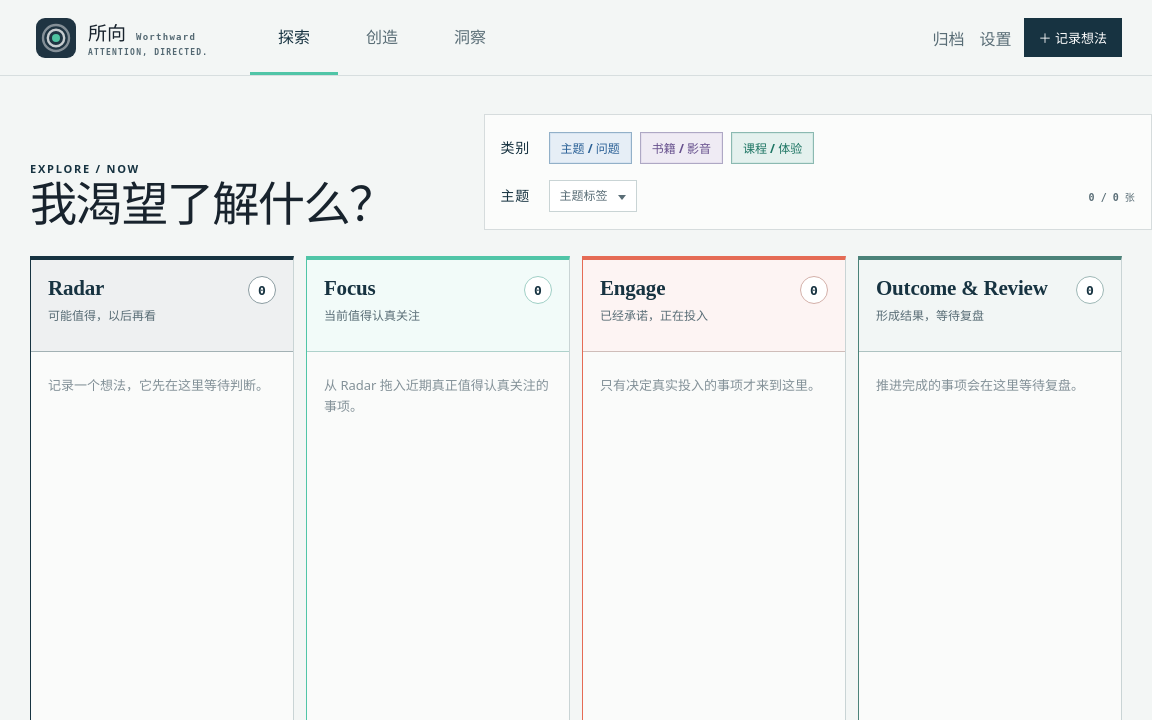
attention workflow › offers the next stage beside free movement
The width and height of the screenshot is (1152, 720).
Click the button "＋ 记录想法" at (1073, 38), box [1024, 18, 1122, 57]
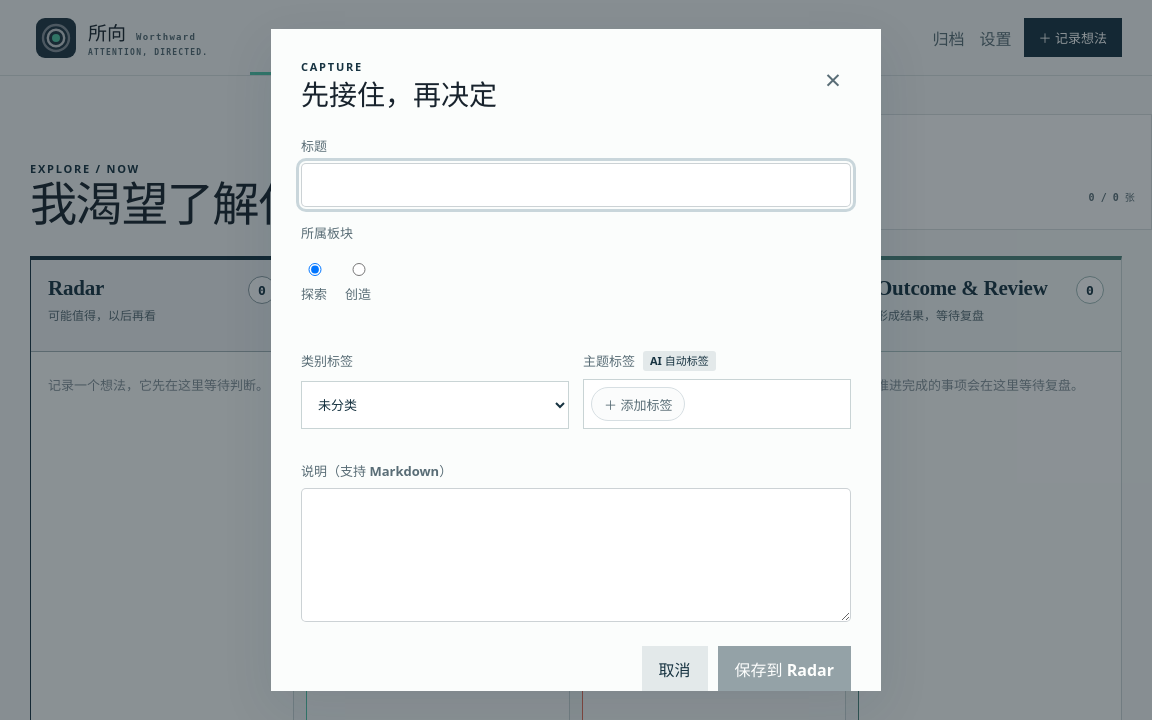
Type "研究知识追踪" into the field labelled "标题" at (576, 185), box [301, 163, 851, 207]
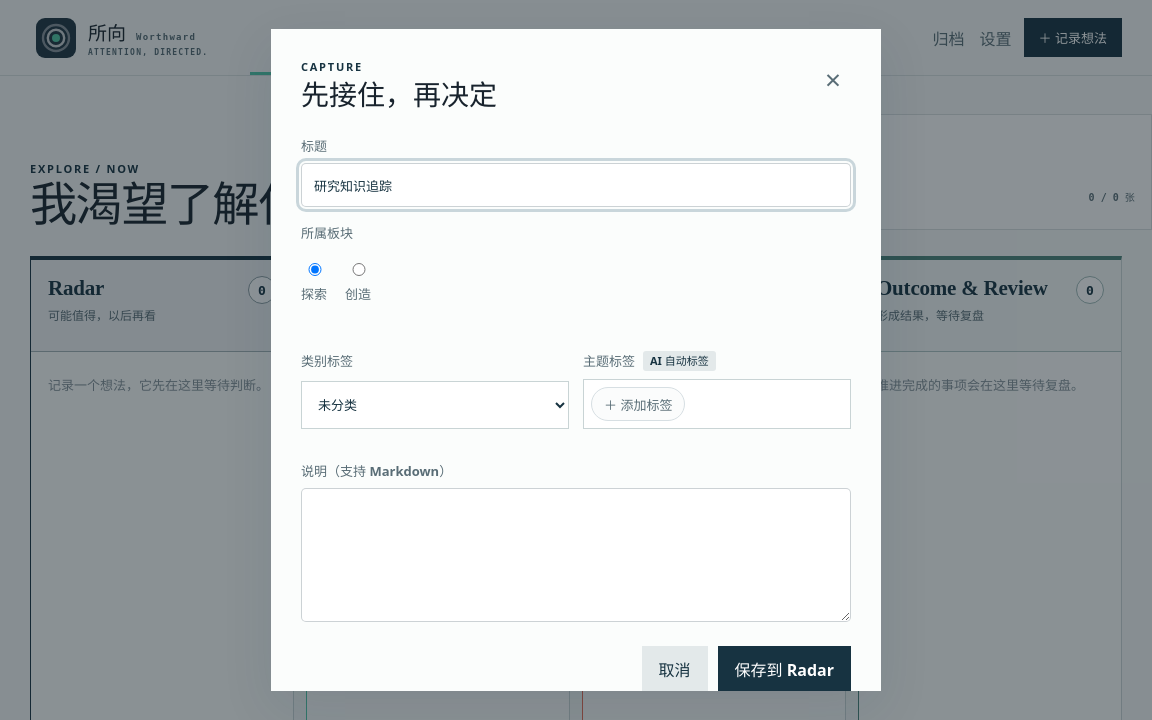
Click the button "保存到 Radar" at (784, 669), box [718, 646, 851, 692]
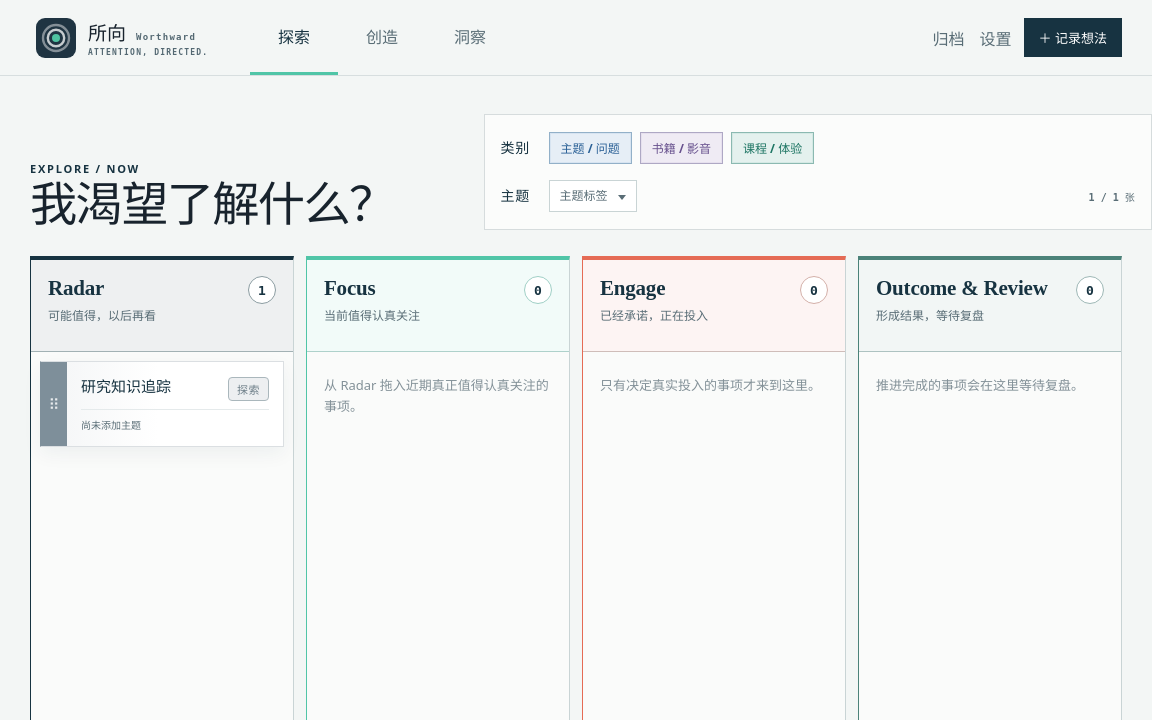
Click the button with aria-label "打开卡片：研究知识追踪" at (175, 404), box [67, 362, 283, 446]
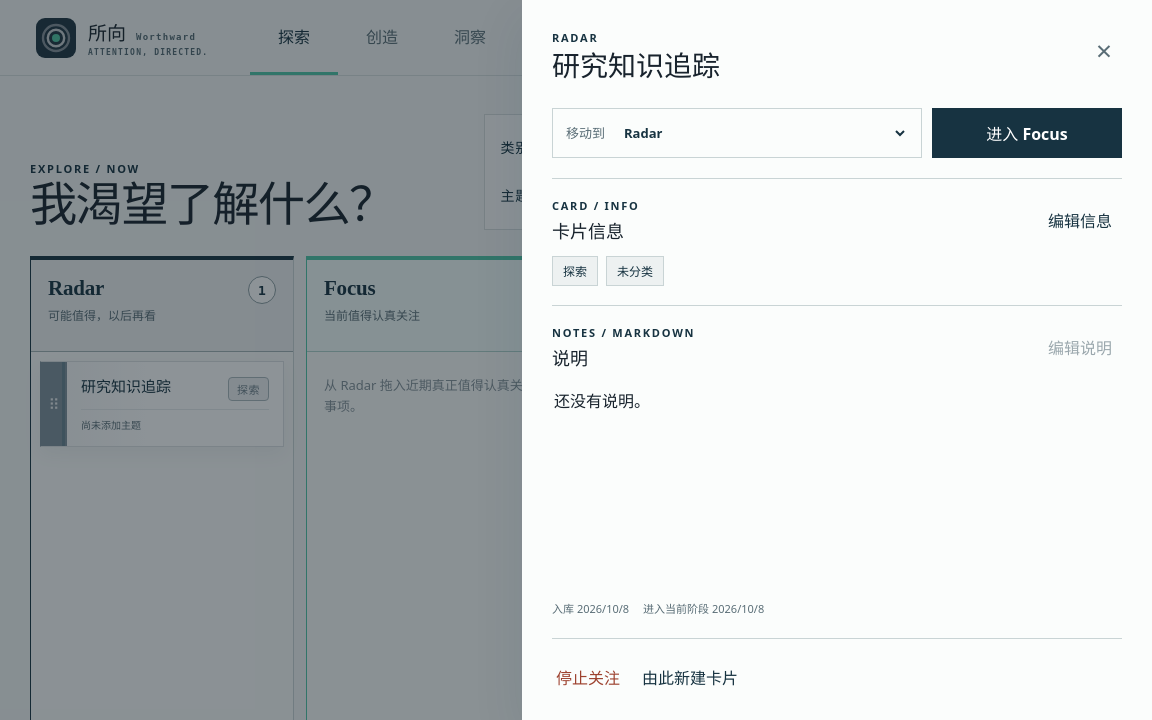
Click the button "进入 Focus" at (1027, 133), box [932, 108, 1122, 158]
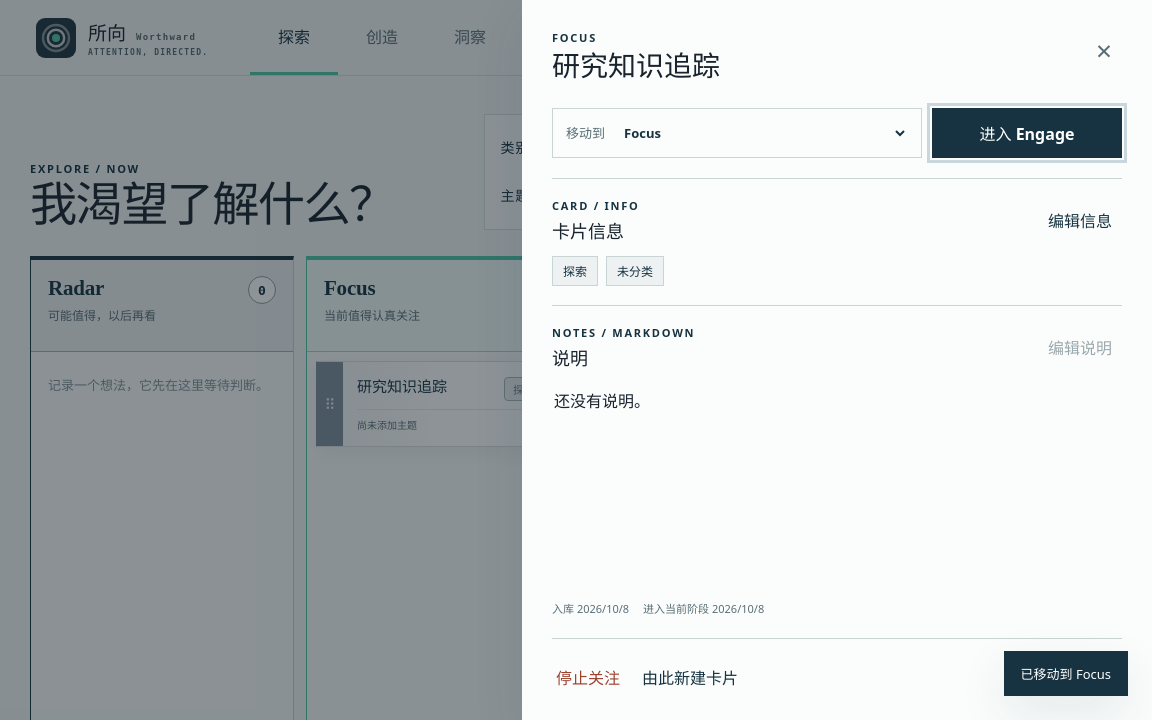
Now the text "研究知识追踪" is shown, box [357, 377, 447, 398]
Now the button "进入 Engage" is shown, box [932, 108, 1122, 158]
